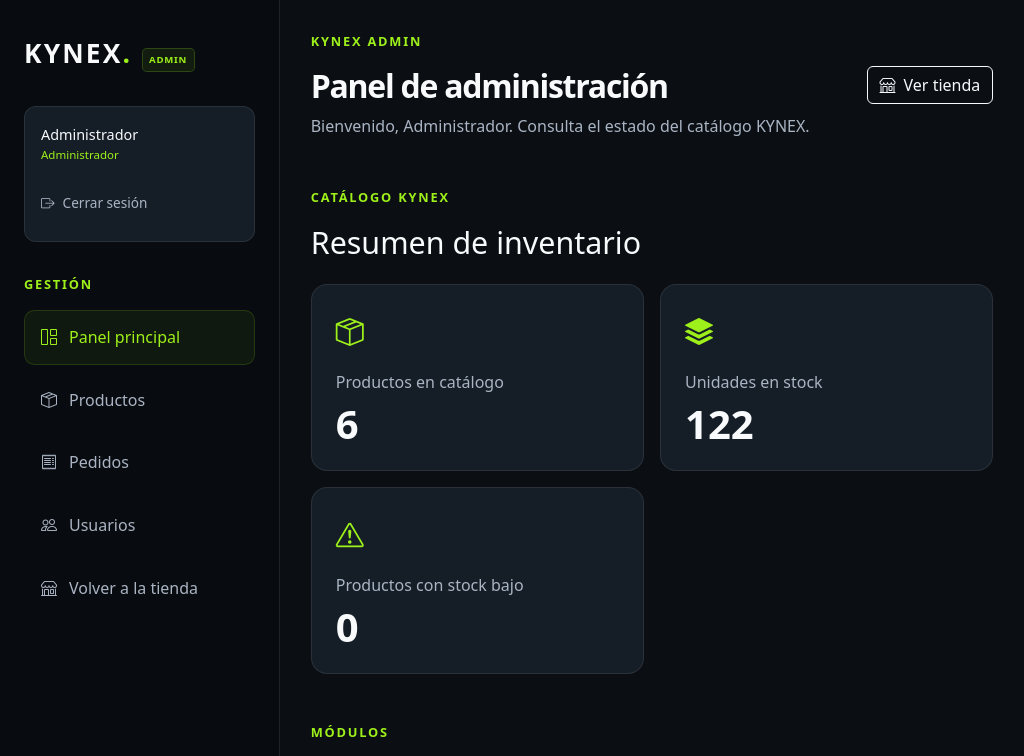
Acceso administrativo integrado › conserva el acceso y explica el fallo si no puede cerrar la sesión
Click the button "Cerrar sesión". click: (94,203)
box: [41, 181, 147, 225]
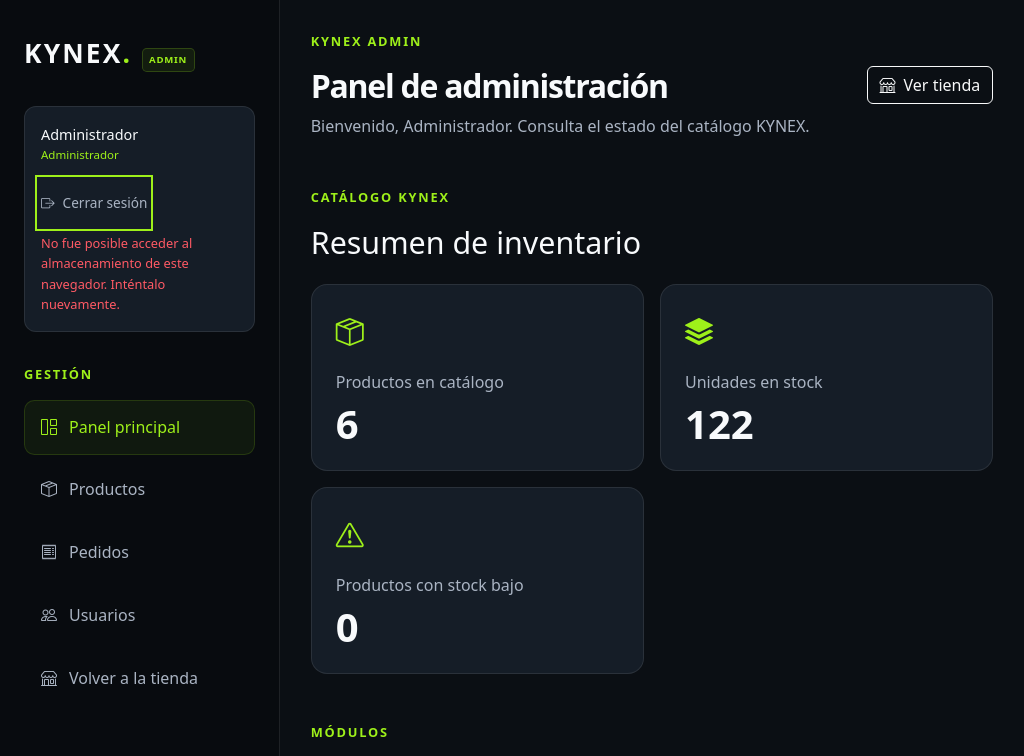
Expected: the heading "Panel de administración" is shown, [311, 64, 668, 107]
Result: the message shows "almacenamiento" at [41, 234, 192, 313]
